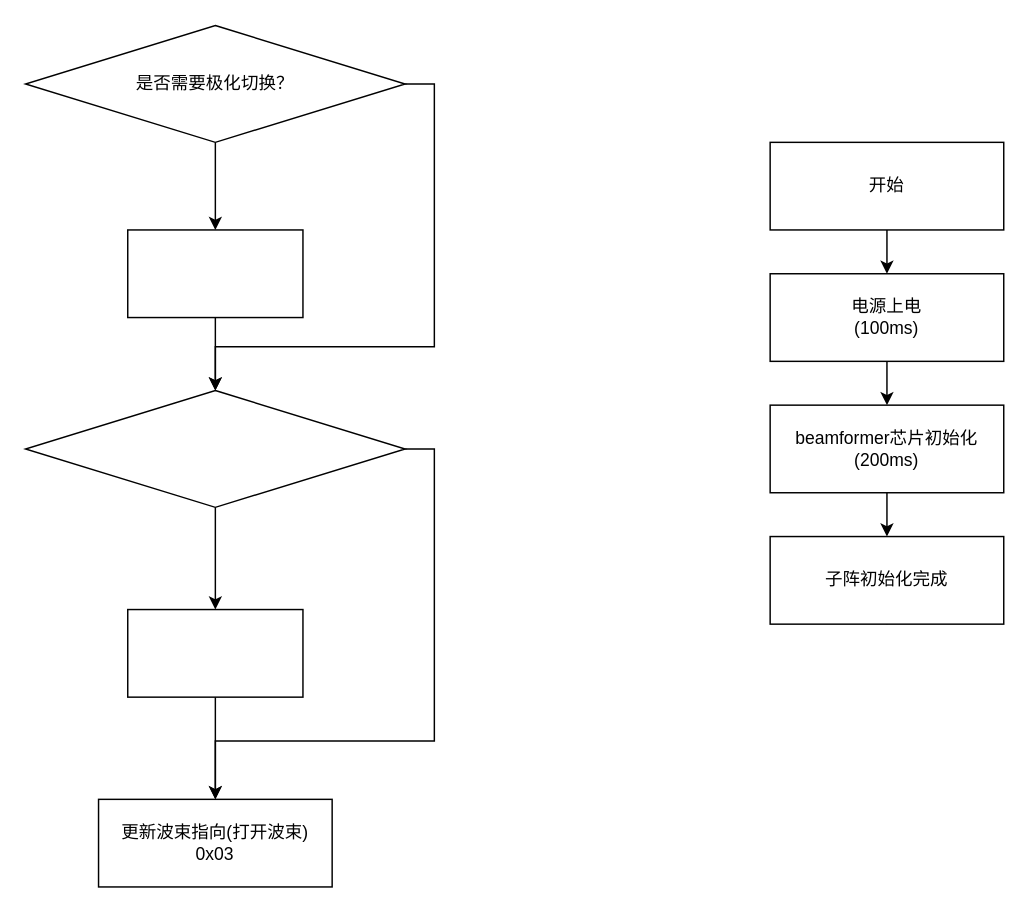
Image size: 1029x913. Some labels were removed from this diagram. The shapes that lost their labels are listed below. From the top down, each one's centre as x and y in pixels, then its label:
At point (214, 273): "更新波束极化 0x02".
At point (214, 448): "是否需要更改波束频率？".
At point (214, 652): "更新波束频率 0x01".
